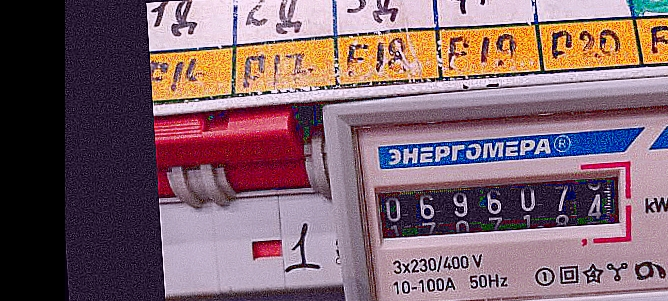0: (382, 194, 405, 223), (519, 182, 539, 212), (418, 192, 437, 219)
4: (586, 191, 604, 220)
6: (484, 185, 504, 216)
7: (552, 181, 572, 211)
9: (451, 189, 471, 218)
screen: (360, 156, 639, 257)
